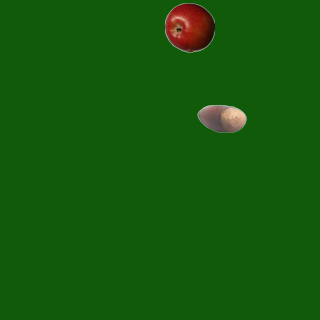Apple Braeburn: (164, 2, 214, 52)
Hazelnut: (196, 93, 246, 143)
